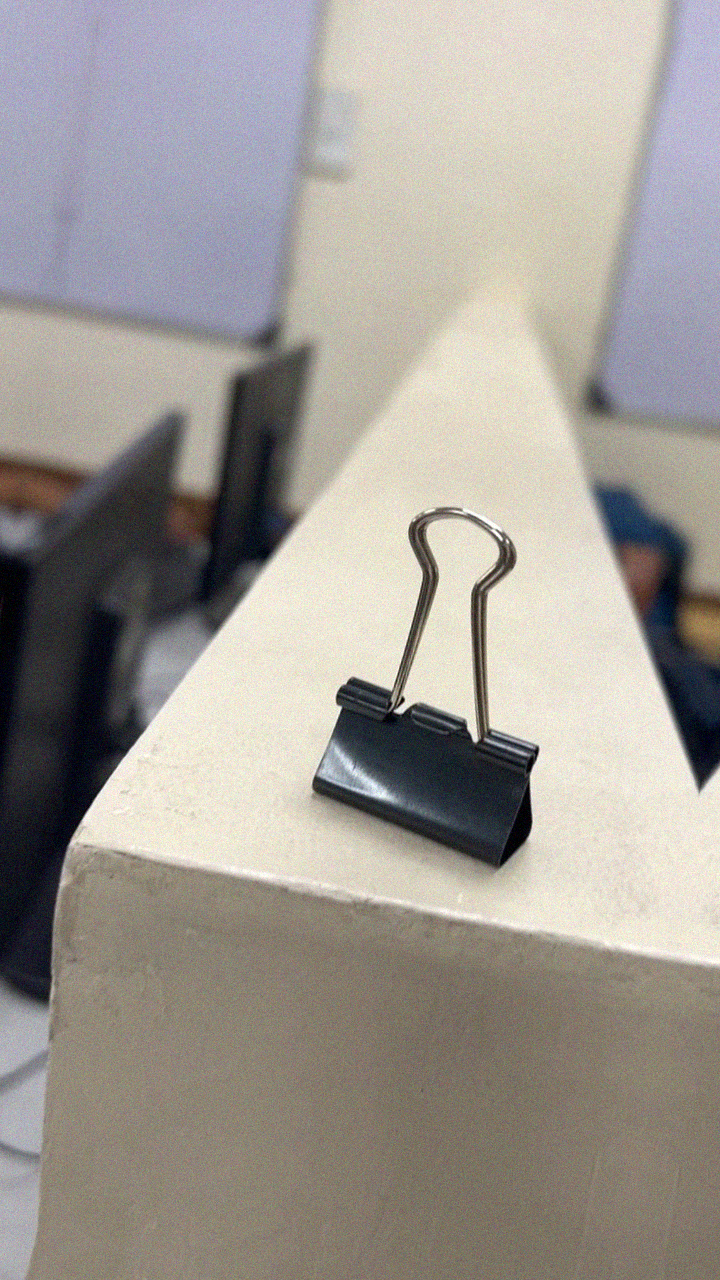kep_giay: (300, 486, 588, 870)
